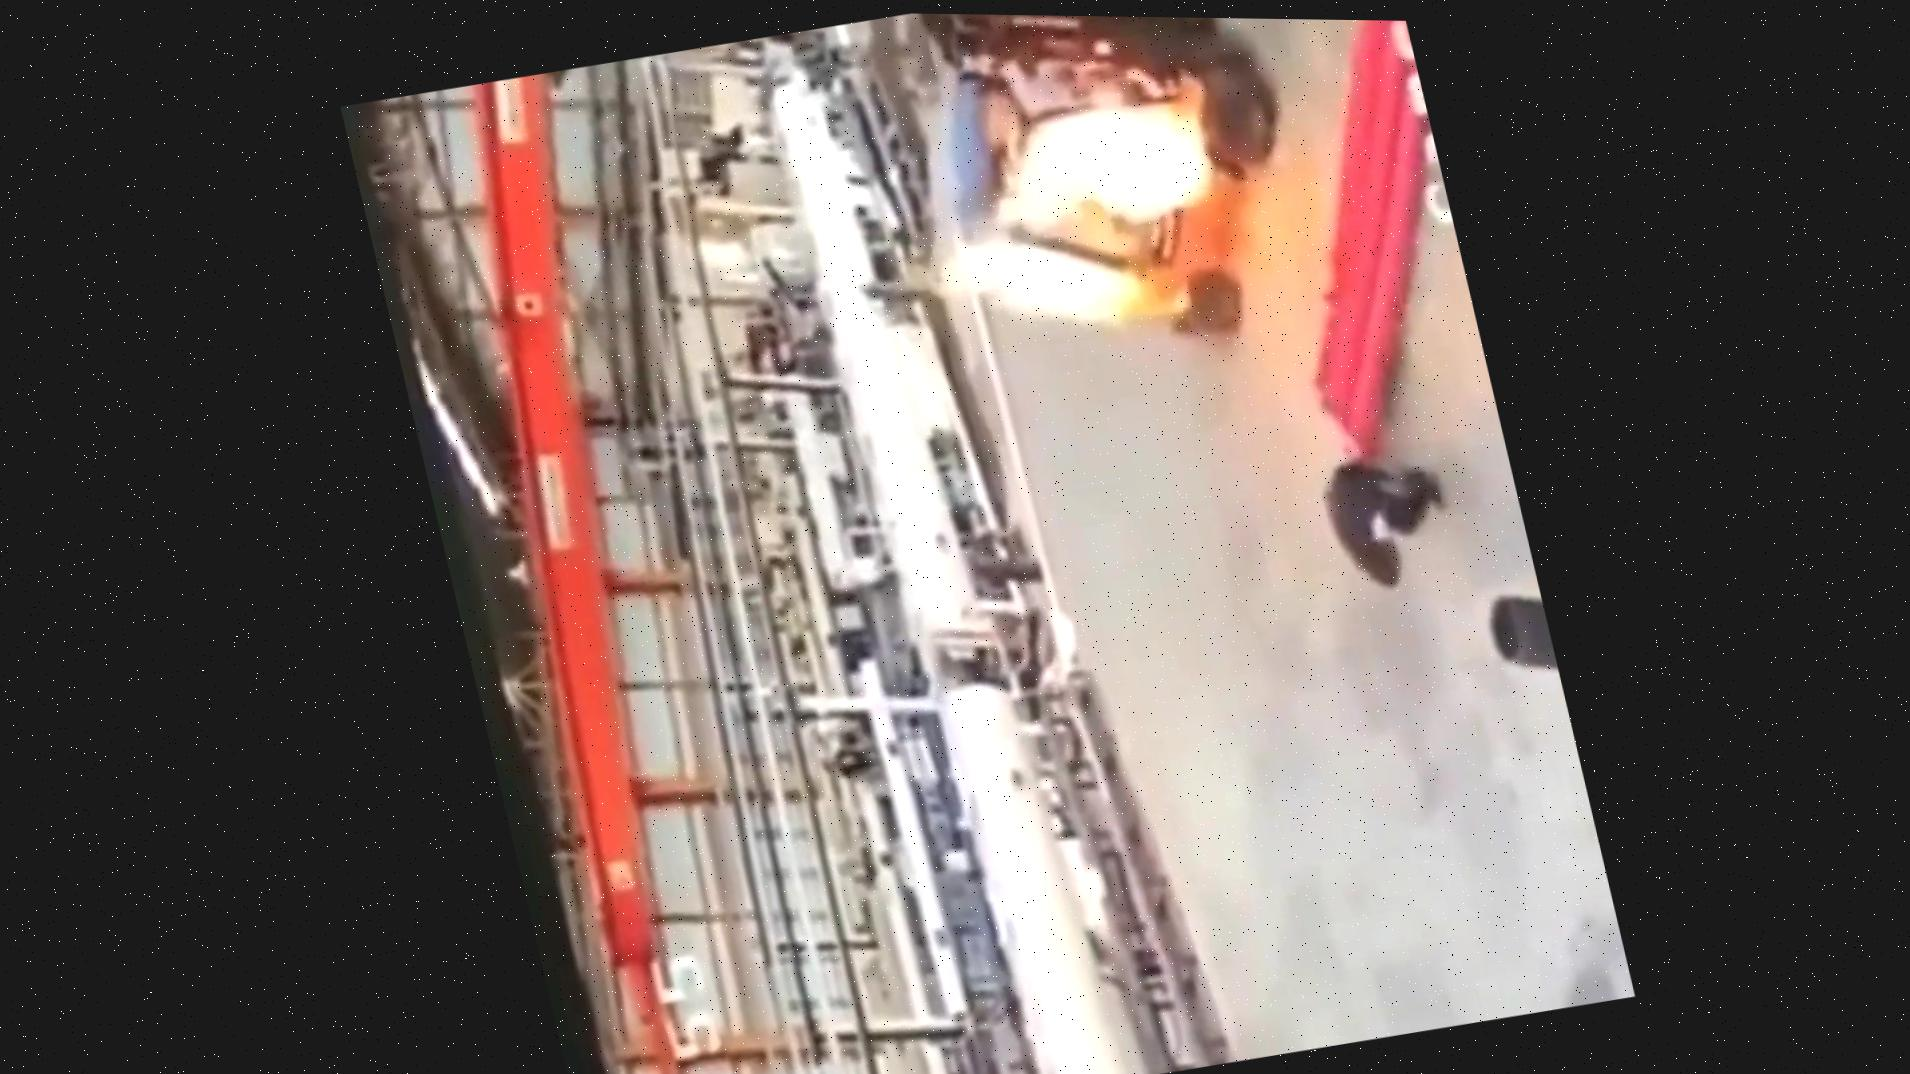fire: (817, 14, 1331, 401)
